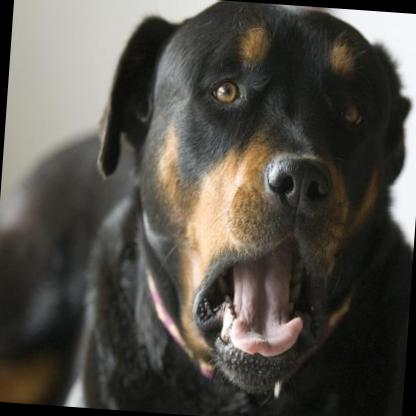Rottweiler: (77, 0, 416, 416)
